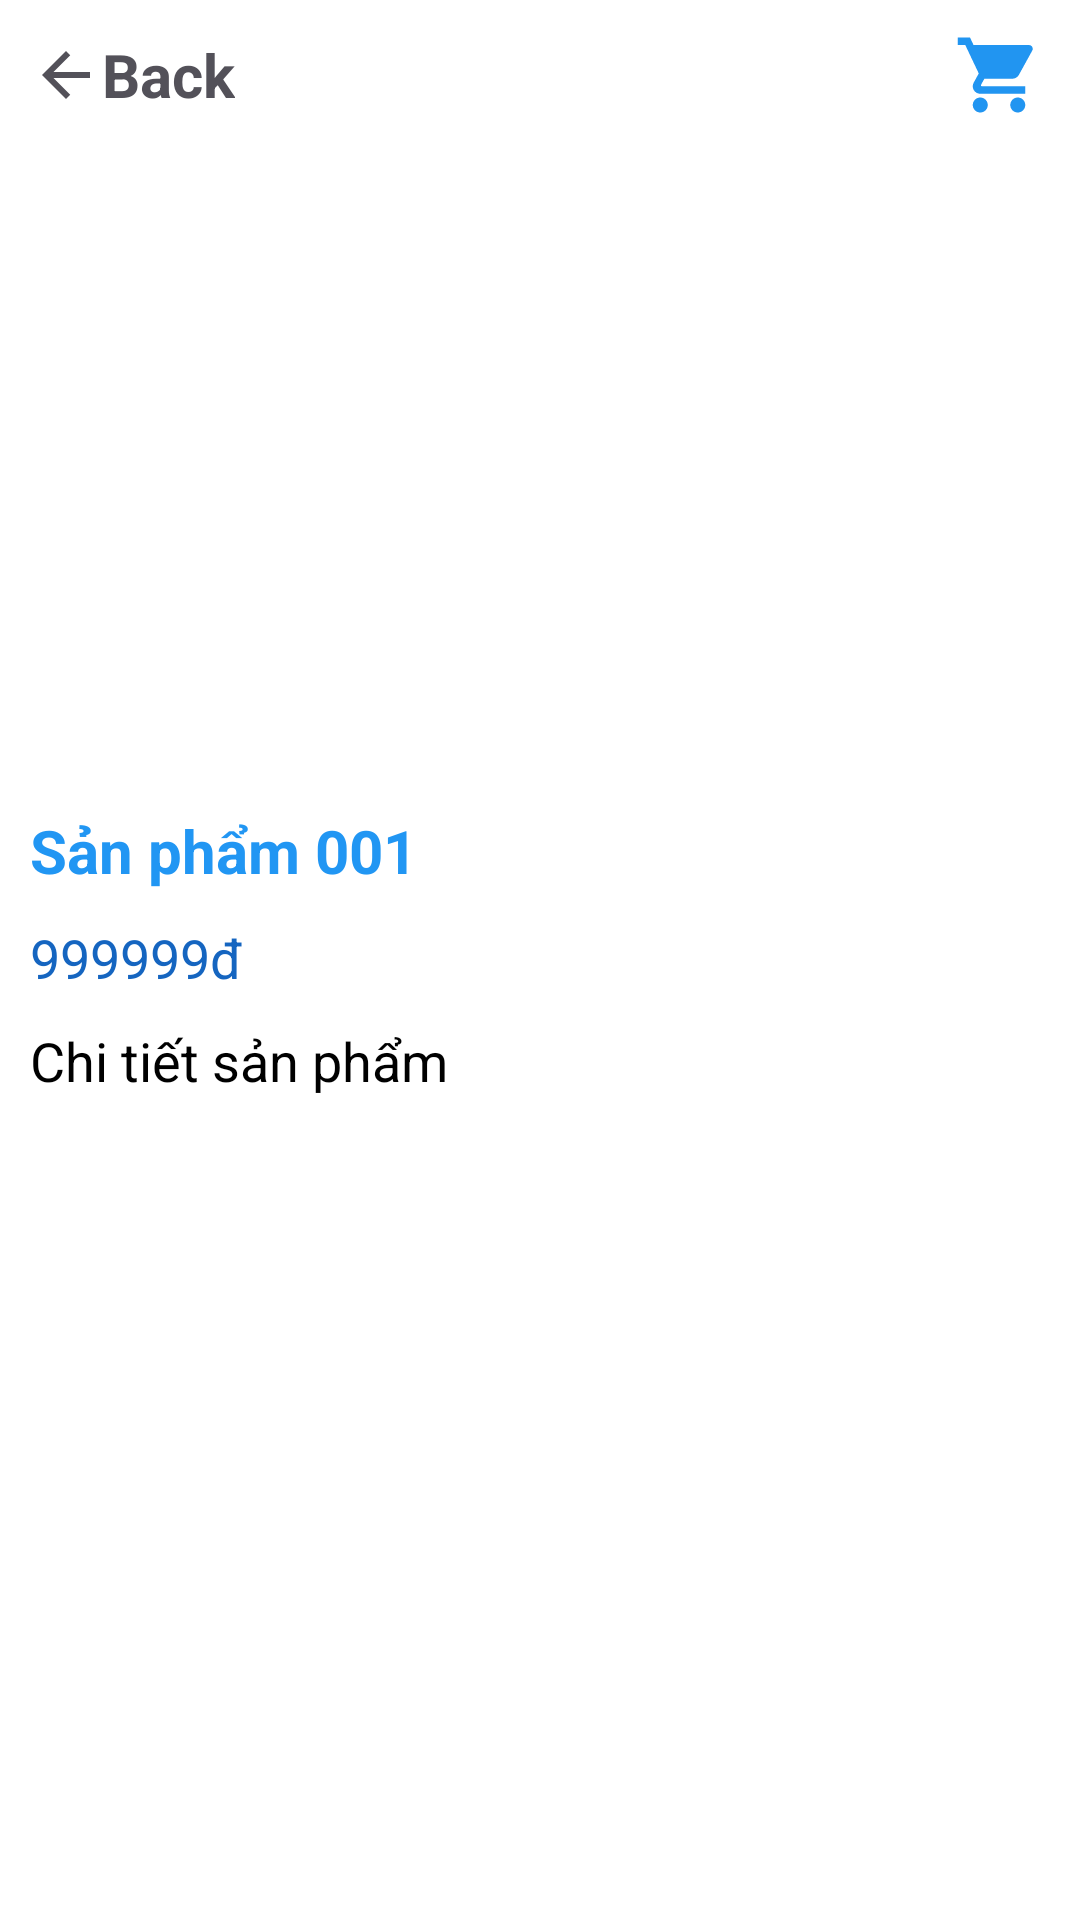

Named icons in this screenshot (1080 × 1920) and their bounding boxes, bbox(x1, y1, x2, y2):
Nút giỏ hàng: bbox(957, 37, 1033, 113)
